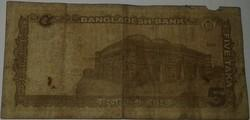5 taka: (6, 1, 249, 119)
